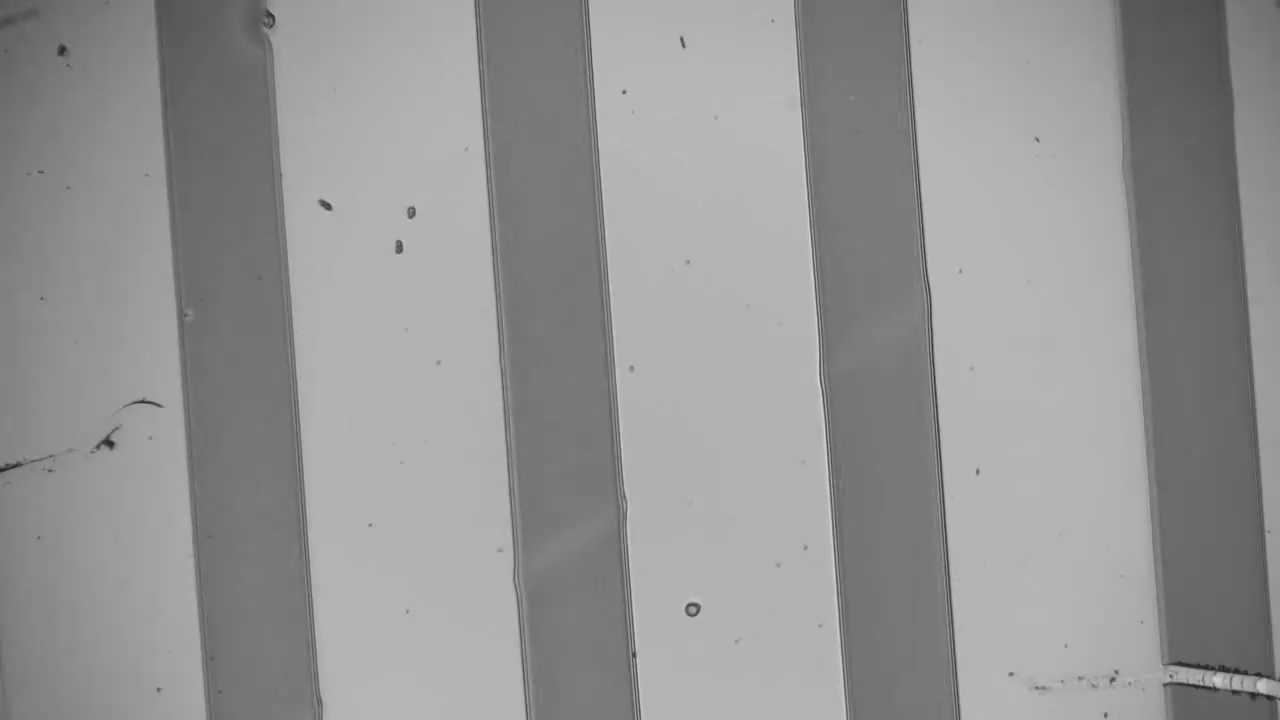Short_circuit: (1132, 630, 1280, 710)
